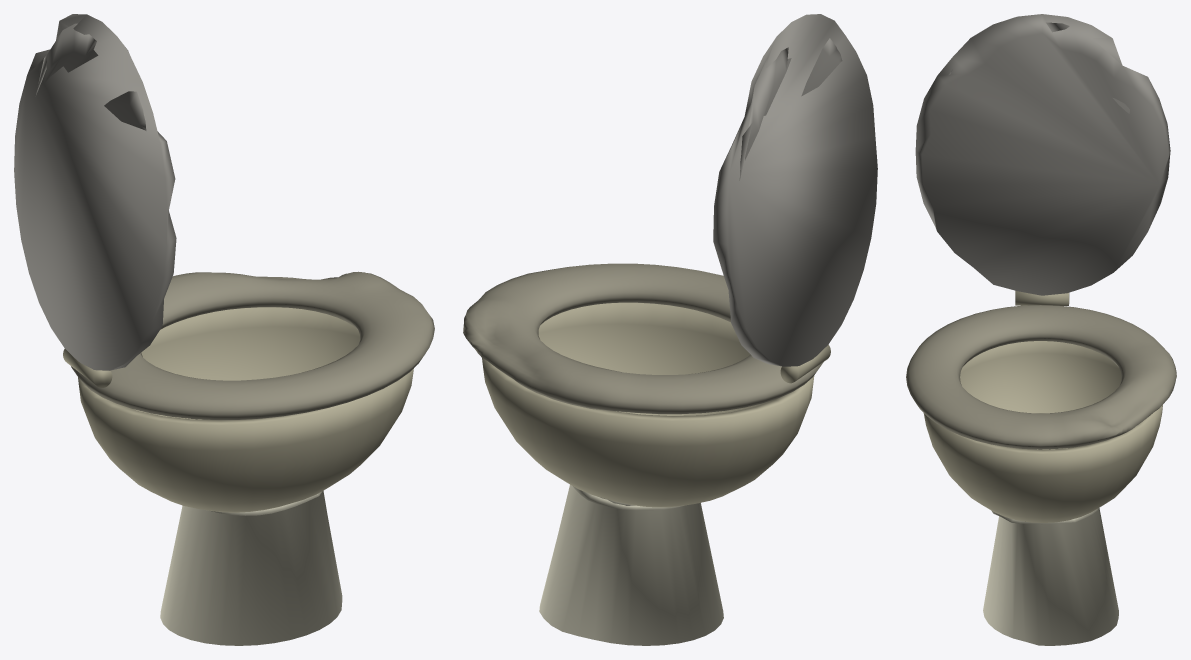
The model's file is PRP_Toilet.fbx.
3 renders of one model, left to right at view 1: azimuth 30°, elevation 25°; view 2: azimuth 150°, elevation 25°; view 3: azimuth 270°, elevation 25°, orthographic. The views are drawn at different scales.
Parts seen in each view (by area): view 1: Sphere; view 2: Sphere; view 3: Sphere.
Boxes of the visible parts, bbox=[...] form: Sphere: bbox=[14, 14, 434, 645]; Sphere: bbox=[463, 14, 877, 645]; Sphere: bbox=[906, 14, 1176, 645].
Bounding box in the file's own units: 3.12 × 5.55 × 2.55.
